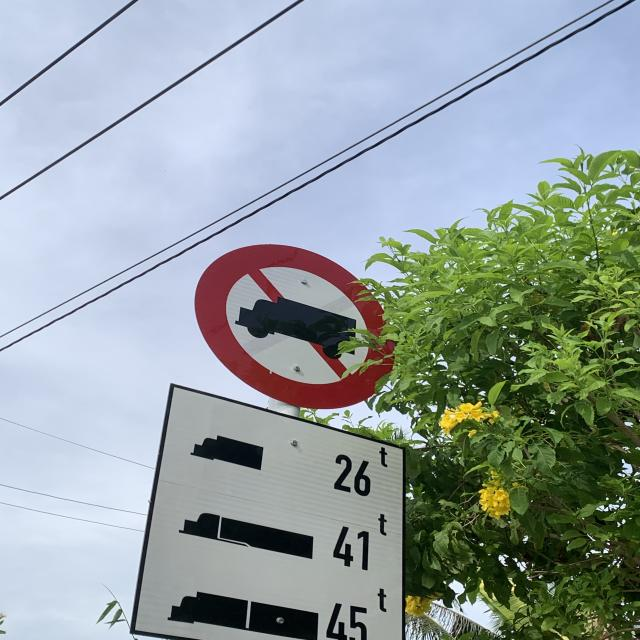Cam_Xe_Tai: (200, 243, 402, 404)
